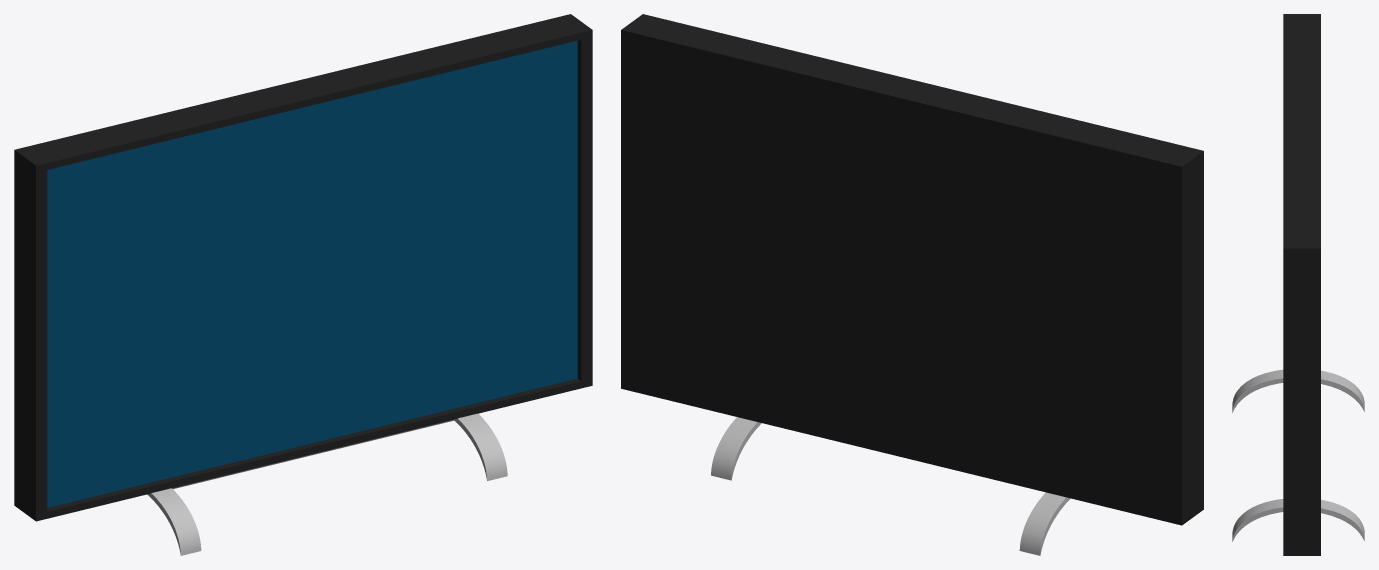
3 renders of one model, left to right at view 1: azimuth 30°, elevation 25°; view 2: azimuth 150°, elevation 25°; view 3: azimuth 270°, elevation 25°, orthographic. The views are drawn at different scales.
Parts seen in each view (by area): view 1: Cube, Extrude, Extrude_1; view 2: Cube, Extrude_1, Extrude; view 3: Cube, Extrude_1, Extrude, Cap_2_2, Cap_2.
Part boxes in pixels (<box>): Cube: <box>14,14,592,521</box>; Extrude: <box>152,488,201,555</box>; Extrude_1: <box>458,414,507,480</box>; Cube: <box>621,14,1203,525</box>; Extrude_1: <box>711,417,757,480</box>; Extrude: <box>1019,492,1065,555</box>; Cube: <box>1283,14,1320,555</box>; Extrude_1: <box>1232,499,1364,540</box>; Extrude: <box>1232,370,1364,410</box>; Cap_2_2: <box>1232,507,1364,541</box>; Cap_2: <box>1232,378,1364,412</box>.
Bounding box in the file's own units: 360 × 245 × 85.95.
